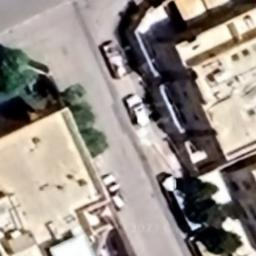SUV: (122, 92, 150, 128)
pickup: (98, 170, 126, 214)
sedan: (98, 37, 128, 80)
truck: (159, 172, 201, 232)
van: (186, 235, 216, 256)
